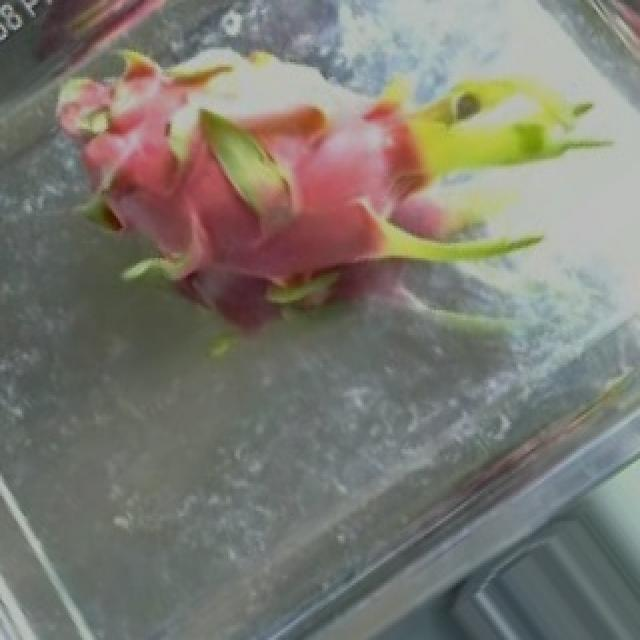fruit: (176, 2, 614, 432), (2, 0, 352, 419)
